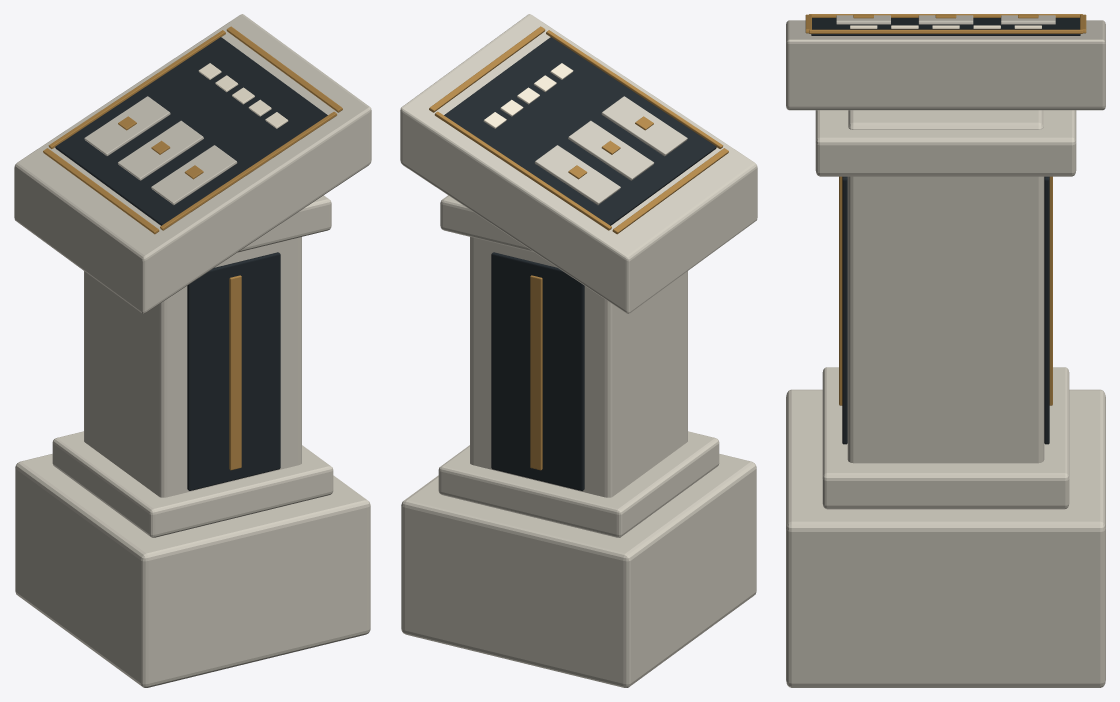
File: SM_Aurelion_KIT_RequestConsoleRaisedBase.fbx
3 views of the same model, side by side, from view 1: azimuth 30°, elevation 25°; view 2: azimuth 150°, elevation 25°; view 3: azimuth 270°, elevation 25° (orthographic). The views are drawn at different scales.
Visible parts, largest first — view 1: SM_Aurelion_KIT_RequestConsoleRaisedBase; view 2: SM_Aurelion_KIT_RequestConsoleRaisedBase; view 3: SM_Aurelion_KIT_RequestConsoleRaisedBase.
Part boxes in pixels (box(x1,y1,x2,y2)): SM_Aurelion_KIT_RequestConsoleRaisedBase: box(14, 14, 371, 687); SM_Aurelion_KIT_RequestConsoleRaisedBase: box(400, 14, 757, 687); SM_Aurelion_KIT_RequestConsoleRaisedBase: box(786, 14, 1105, 687).
Size of the model in its own units: 50 by 49 by 110.
